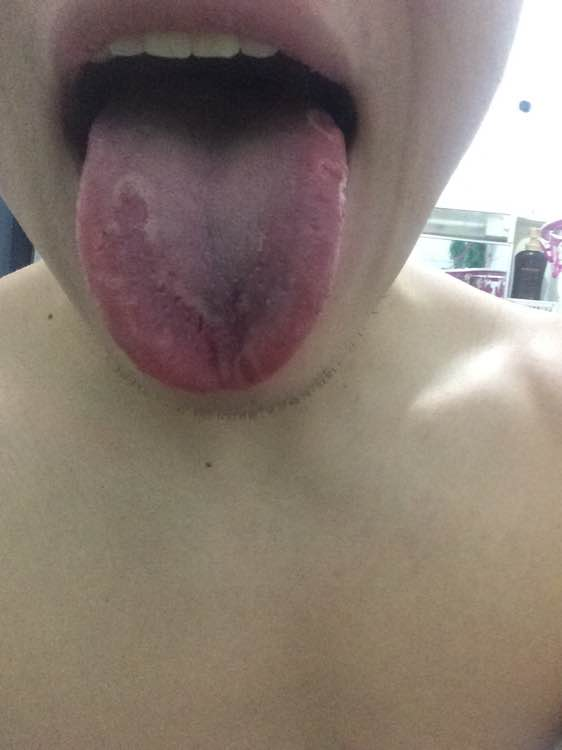baitaishe: (76, 72, 348, 393)
botaishe: (108, 176, 156, 266), (300, 103, 347, 190)
heitaishe: (76, 72, 348, 393)
hongshe: (76, 72, 348, 393)
liewenshe: (155, 281, 205, 333)
